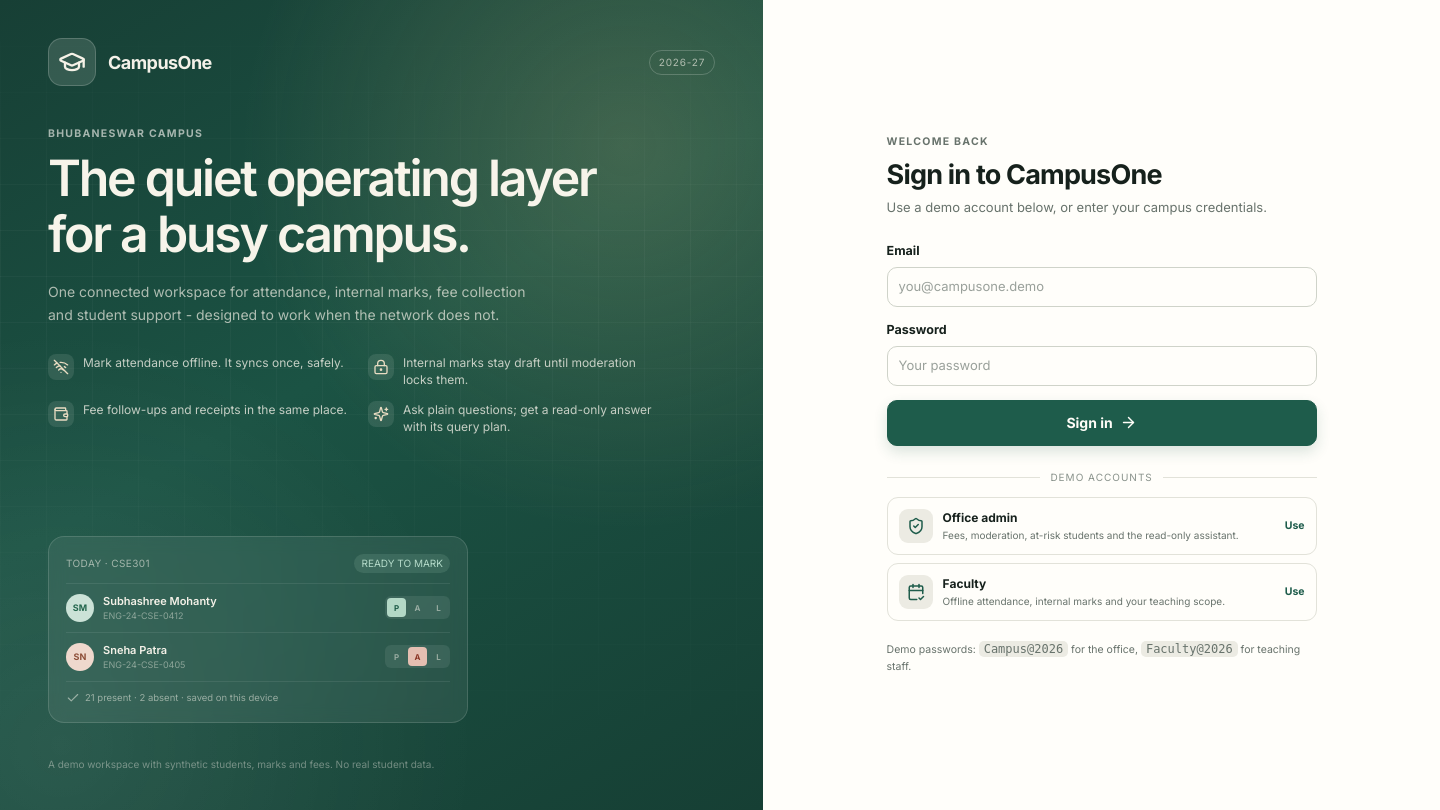
LoginPage › fills the demo credentials when a role card is chosen
The width and height of the screenshot is (1440, 810).
Click the button "Office admin": [916, 526] box [887, 497, 1317, 555]
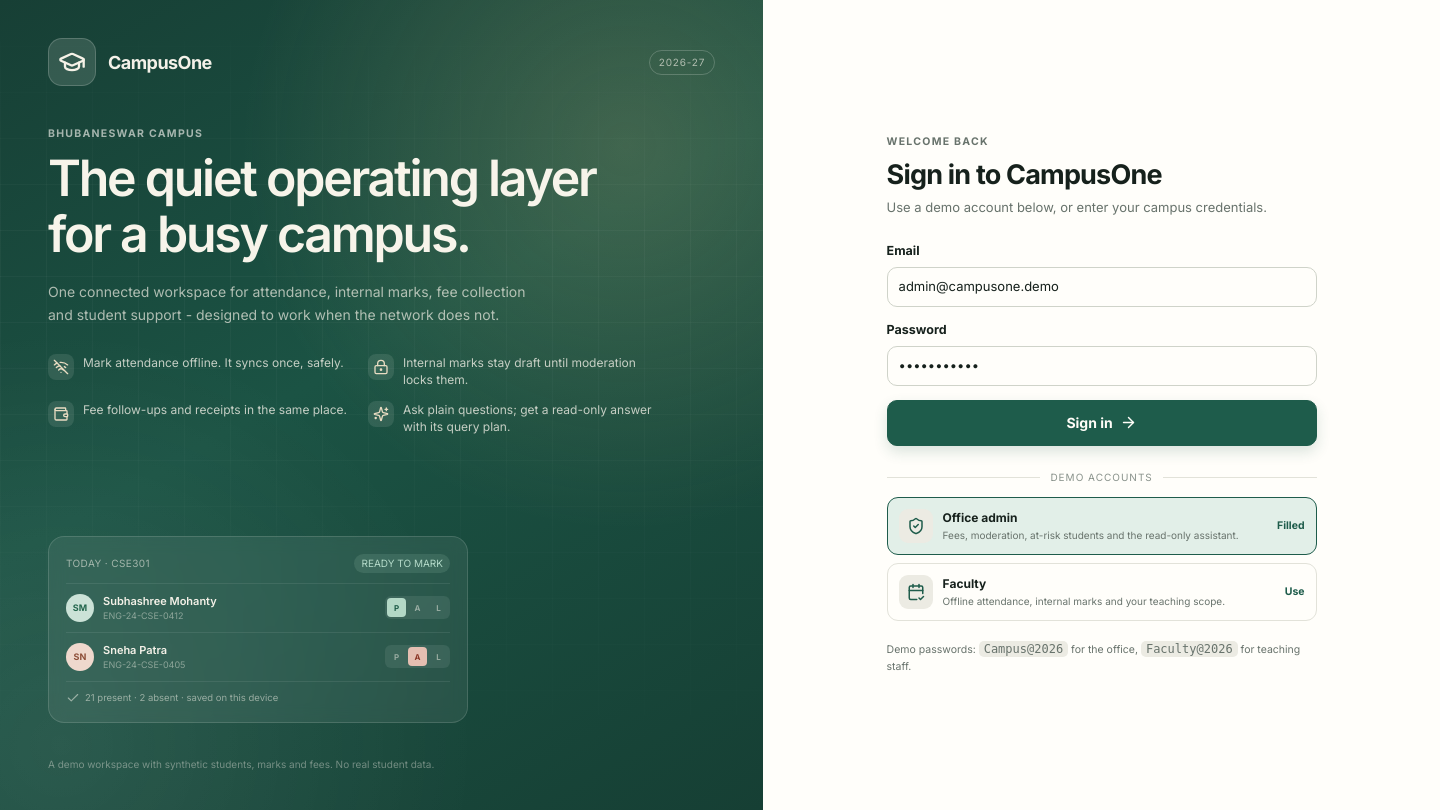
expect the field labelled "Email" holds "admin@campusone.demo": met, box [887, 267, 1317, 307]
expect the password field labelled "Password" holds "Campus@2026": met, box [887, 346, 1317, 386]
